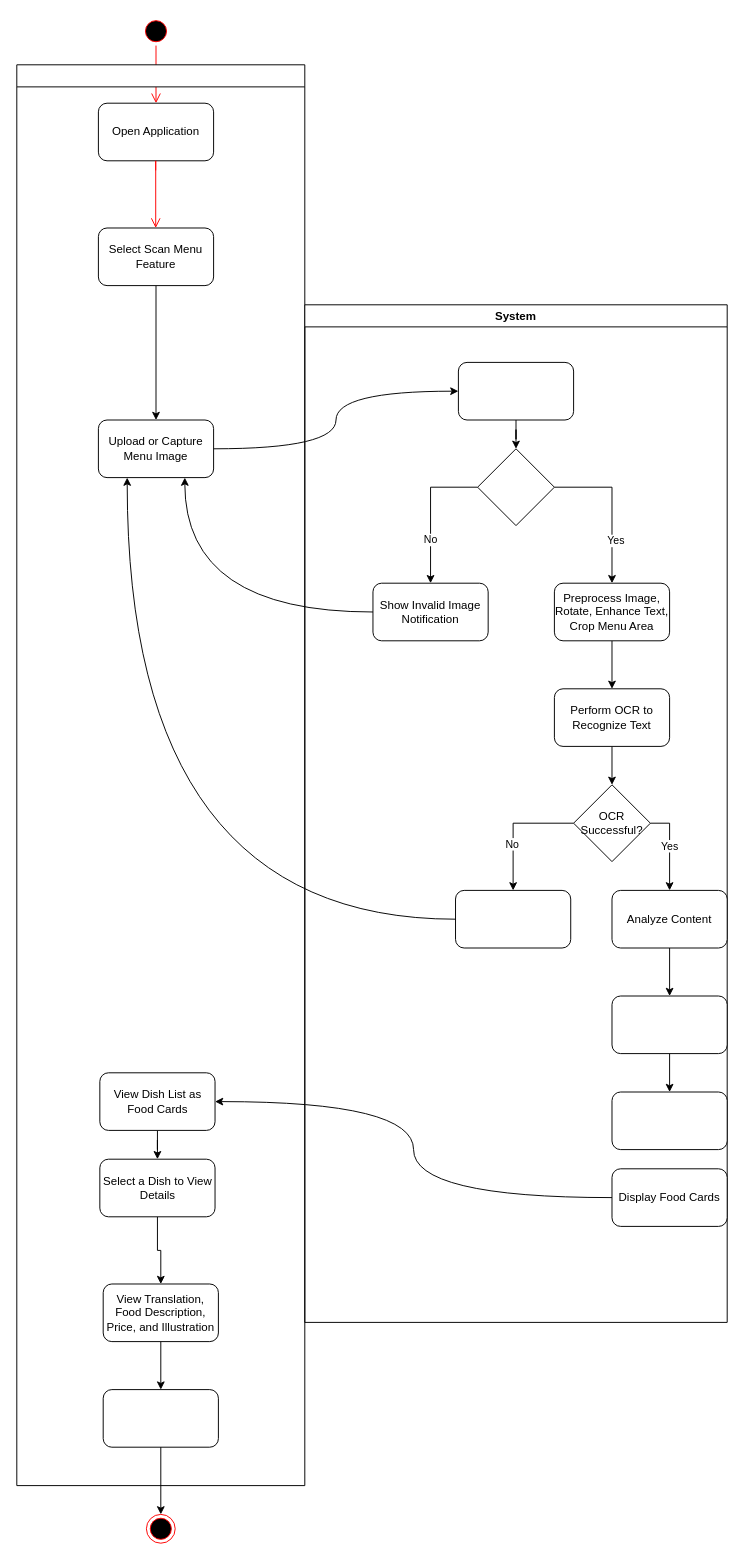
Image size: 744x1560. Some labels were removed from this diagram. The shapes that lost their labels are listed below. From the top down, each one's box as (x1, y1, x2, y2) in pixels, then its label:
(457, 361, 574, 420): Receive Menu Image
(477, 448, 554, 526): Valid Image?
(16, 64, 305, 1486): User
(455, 889, 571, 948): Show Text Recognition Failed Notification
(611, 995, 727, 1054): Translate Food Names and Descriptions into User's Language
(611, 1091, 727, 1150): Generate Food Cards for Each Dish
(102, 1389, 218, 1447): Close Results or Scan Another Menu
